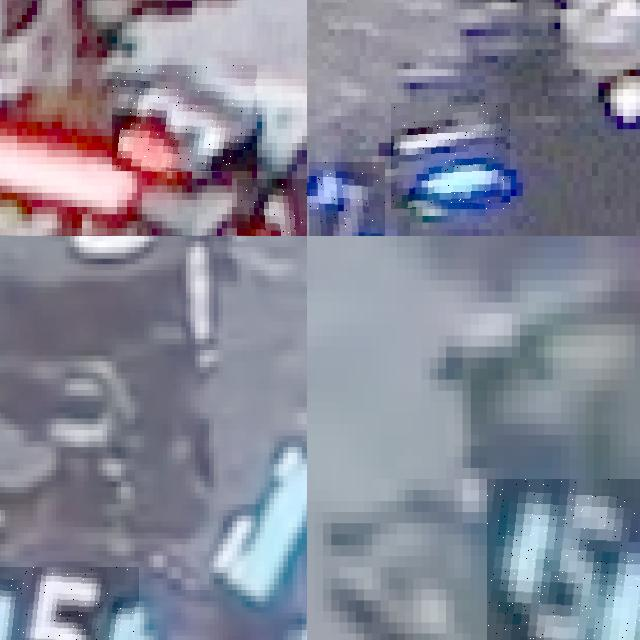B1: (391, 103, 510, 209), (309, 162, 384, 236)
B5: (487, 479, 640, 640), (0, 567, 139, 640)
R3: (112, 65, 257, 171), (237, 178, 307, 236)
